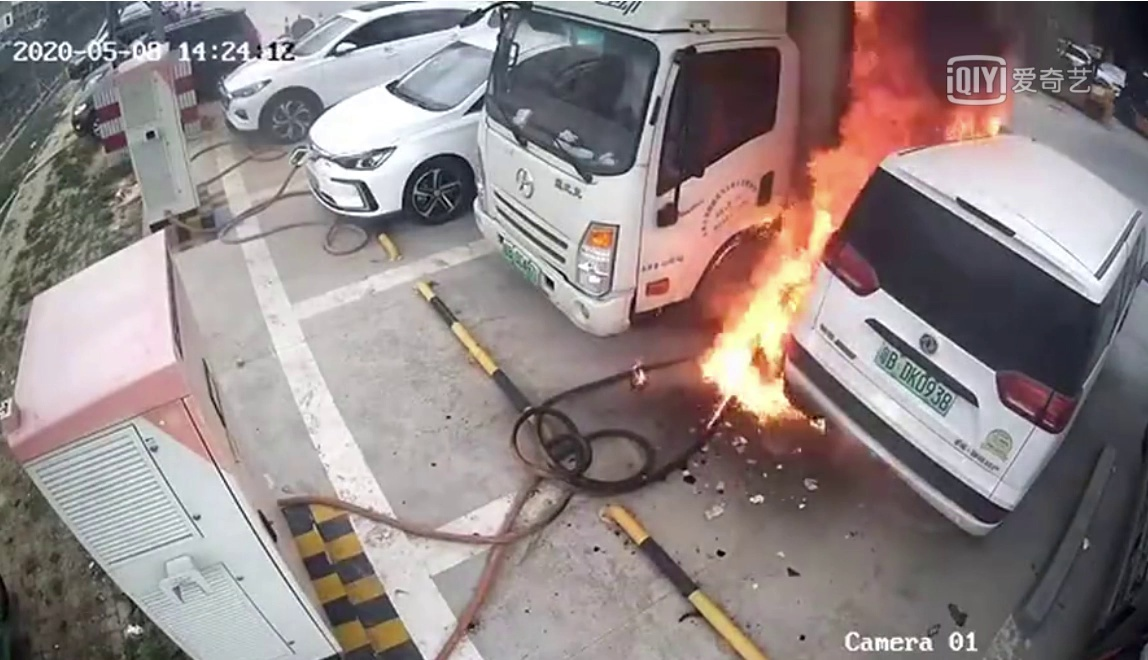fire: (804, 1, 946, 212), (715, 217, 825, 422)
